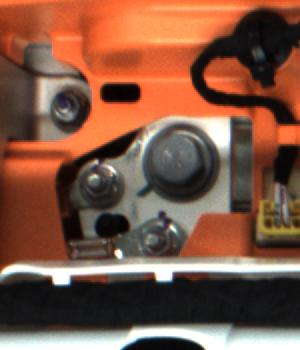nut_b: (138, 126, 229, 204)
